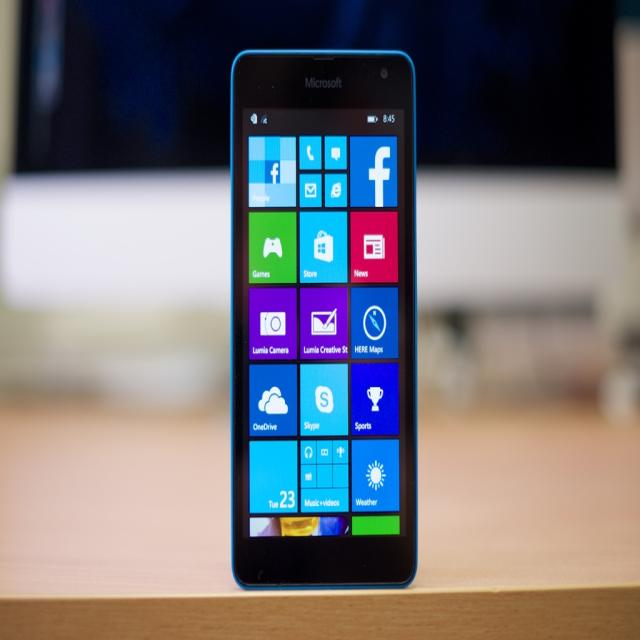Mobile-phone: (228, 46, 420, 589)
